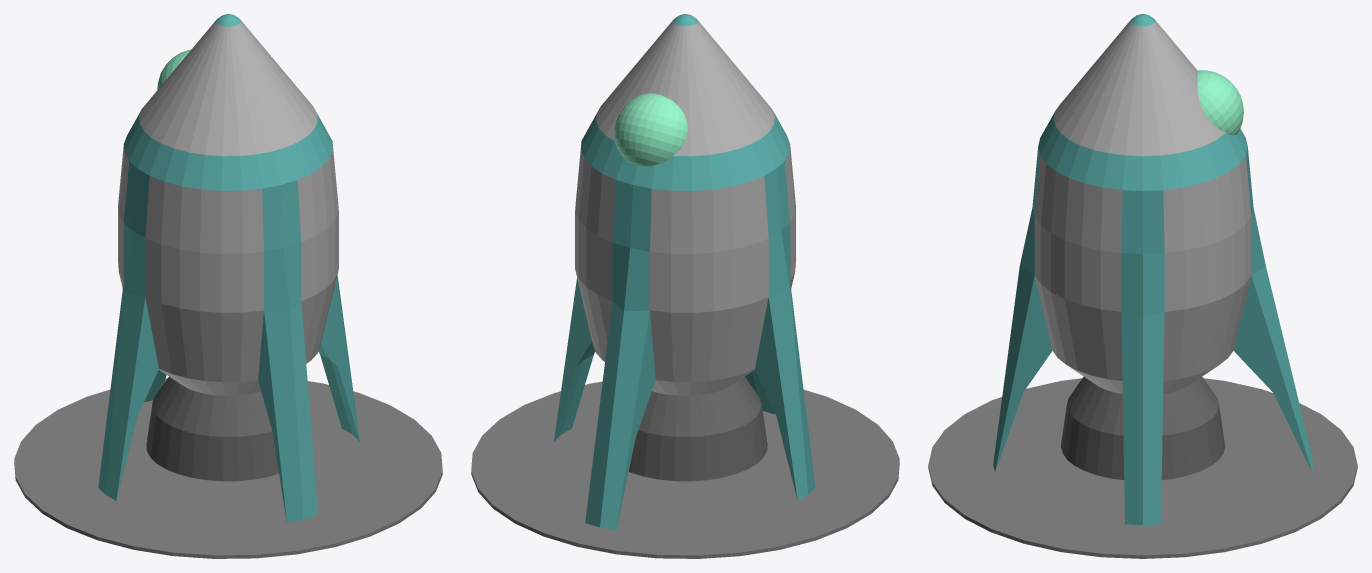
Rendered from rocket.fbx.
The picture shows the model from 3 angles, left to right: view 1: azimuth 30°, elevation 25°; view 2: azimuth 150°, elevation 25°; view 3: azimuth 270°, elevation 25°; orthographic projection.
Visible parts, largest first — view 1: rocket, socle; view 2: rocket, socle; view 3: rocket, socle.
Boxes of the visible parts, bbox=[...] form: rocket: bbox=[98, 14, 359, 522]; socle: bbox=[14, 378, 442, 558]; rocket: bbox=[554, 14, 815, 530]; socle: bbox=[471, 381, 899, 558]; rocket: bbox=[993, 14, 1313, 525]; socle: bbox=[928, 378, 1357, 558].
Size of the model in its own units: 40.62 by 47.29 by 40.62.
